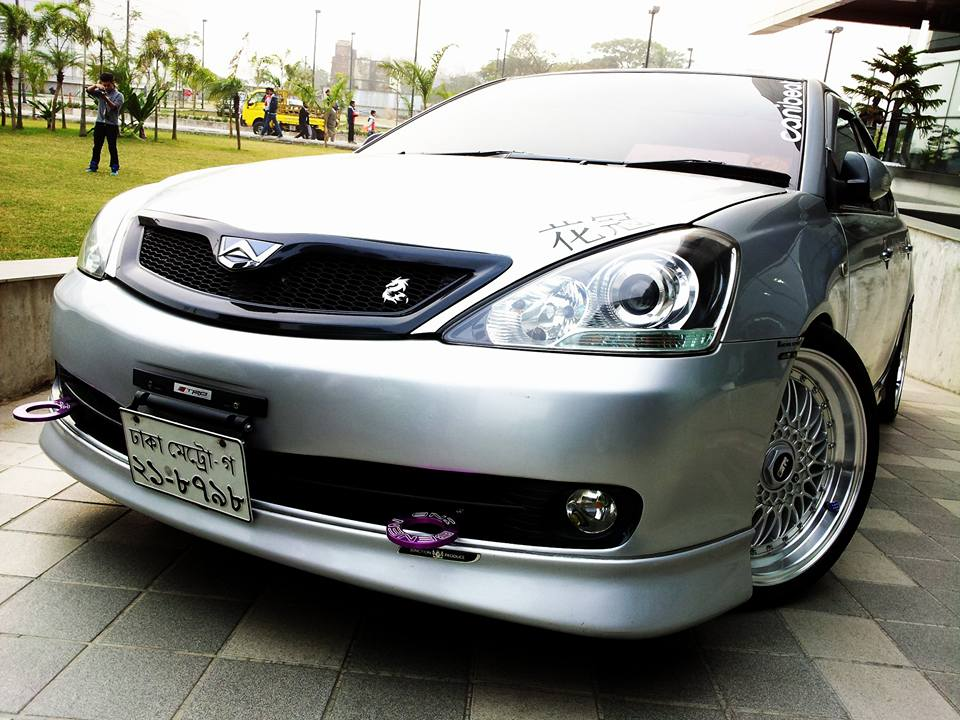registration_plate: (119, 407, 253, 525)
